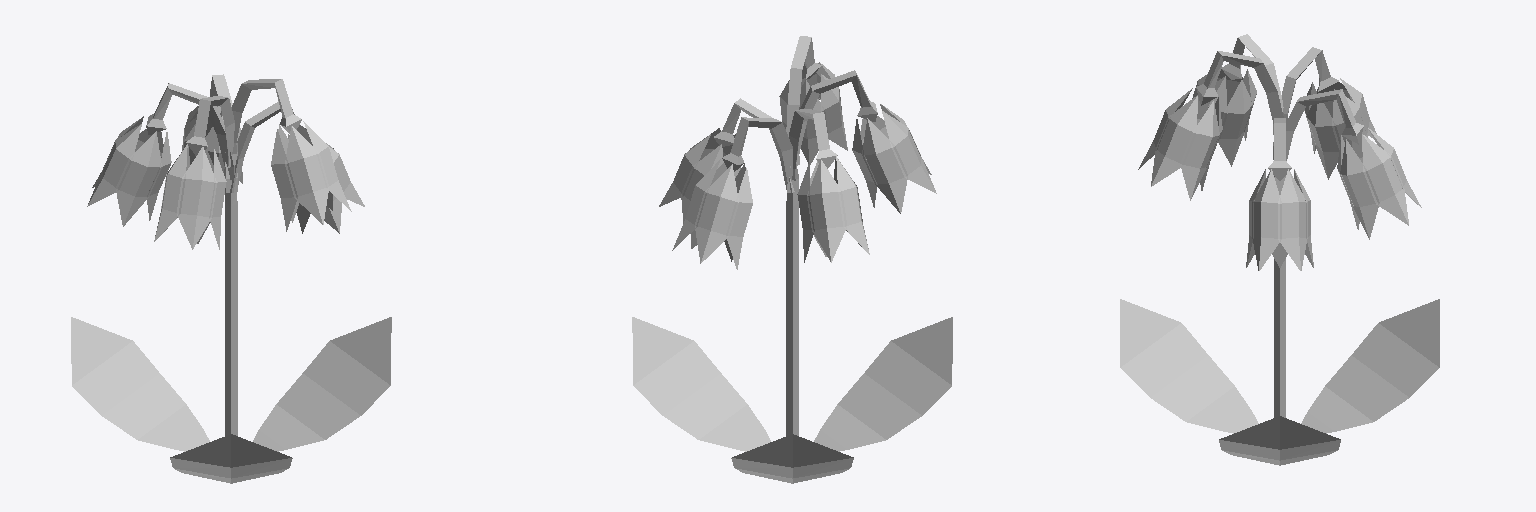
File: bluebells_0004.obj
3 views of the same model, side by side, from view 1: azimuth 30°, elevation 25°; view 2: azimuth 150°, elevation 25°; view 3: azimuth 270°, elevation 25° (orthographic).
Visible parts, largest first — view 1: bluebells_0004; view 2: bluebells_0004; view 3: bluebells_0004.
Part boxes in pixels (left/top/right/bottom): bluebells_0004: left=71, top=74, right=391, bottom=483; bluebells_0004: left=632, top=36, right=952, bottom=483; bluebells_0004: left=1120, top=34, right=1439, bottom=465.
Size of the model in its own units: 2.2 by 3.1 by 2.26.